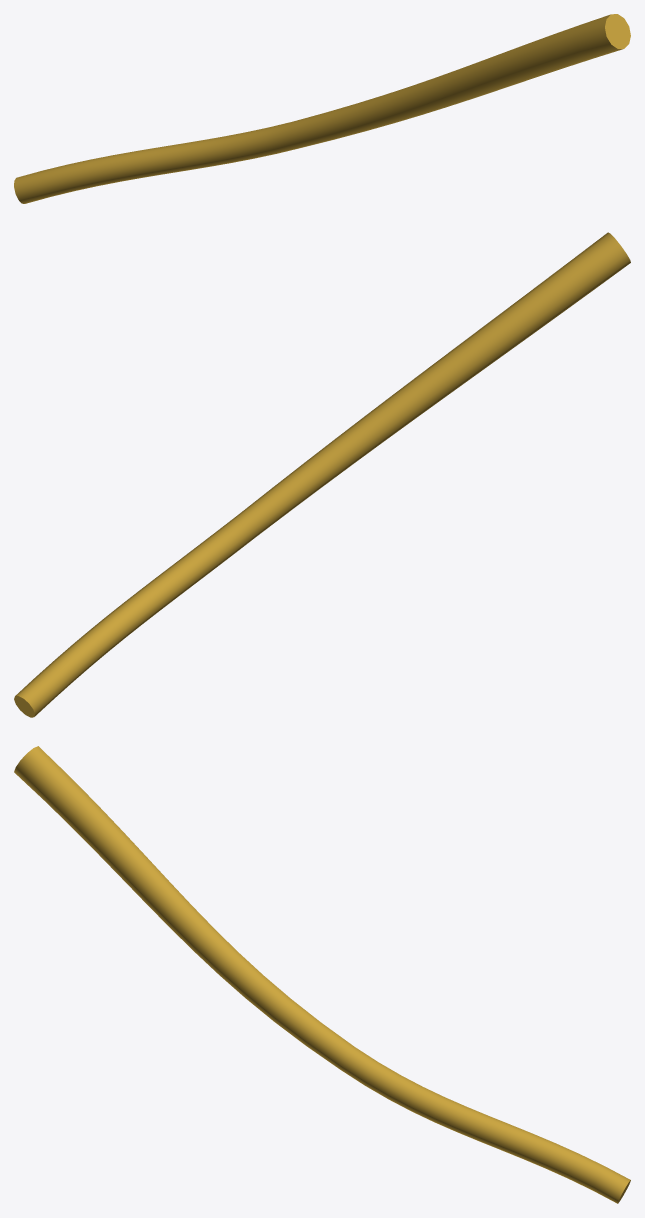
3 views of the same model, one above another, from view 1: azimuth 90°, elevation 25°; view 2: azimuth 150°, elevation 25°; view 3: azimuth 270°, elevation 25° (orthographic). The views are drawn at different scales.
Visible parts, largest first — view 1: 左侧下颌神经前干; view 2: 左侧下颌神经前干; view 3: 左侧下颌神经前干.
Boxes of the visible parts, x1=… form: 左侧下颌神经前干: x1=14, y1=14, x2=630, y2=203; 左侧下颌神经前干: x1=14, y1=232, x2=630, y2=717; 左侧下颌神经前干: x1=14, y1=746, x2=630, y2=1203.
Bounding box in the file's own units: 0.0112 × 0.0113 × 0.0196.
